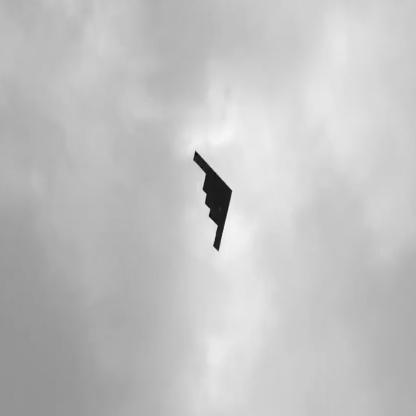B2: (194, 151, 233, 253)
